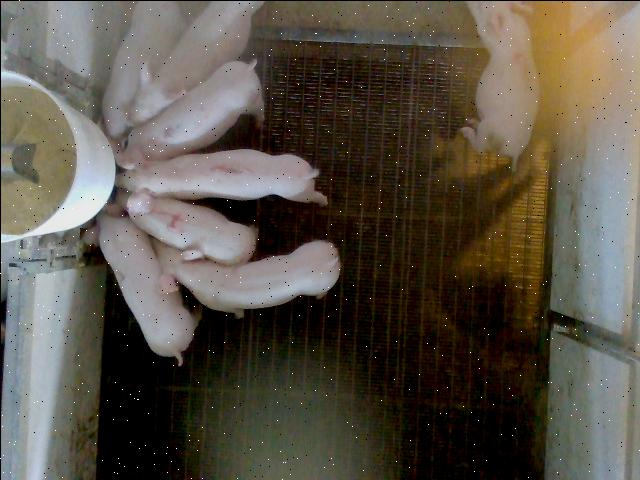pig-1: (116, 149, 326, 211)
pig-3: (460, 2, 538, 170)
pig-4: (129, 197, 256, 264)
